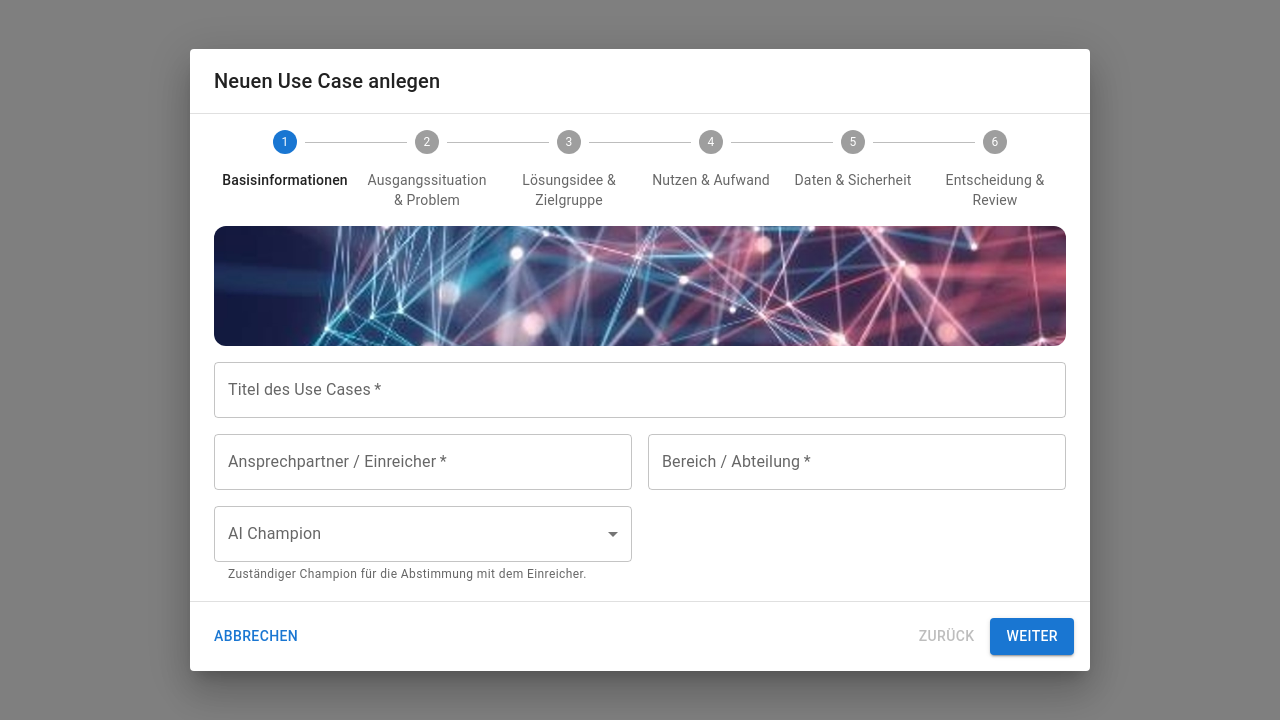
Test: UseCaseWizardDialog › blocks advancing to step 2 when step 1 required fields are invalid
Expected: the text "Basisinformationen" is shown, x1=222 y1=170 x2=348 y2=190
Click the button "Weiter" at (1032, 636), box x1=990 y1=618 x2=1074 y2=655
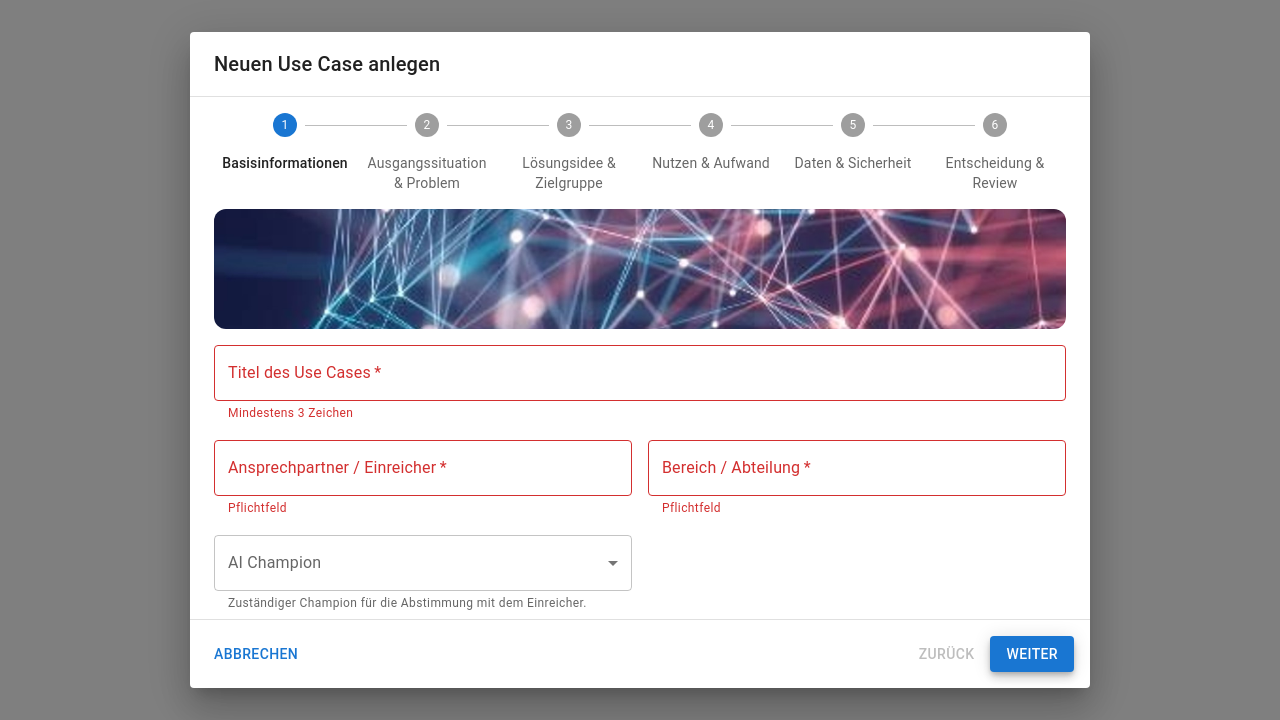
Expected: the field labelled "Titel des Use Cases *" is shown, x1=214 y1=345 x2=1066 y2=401
Now the text "Pflichtfeld" below "Ansprechpartner / Einreicher" is shown, box x1=228 y1=501 x2=287 y2=515
